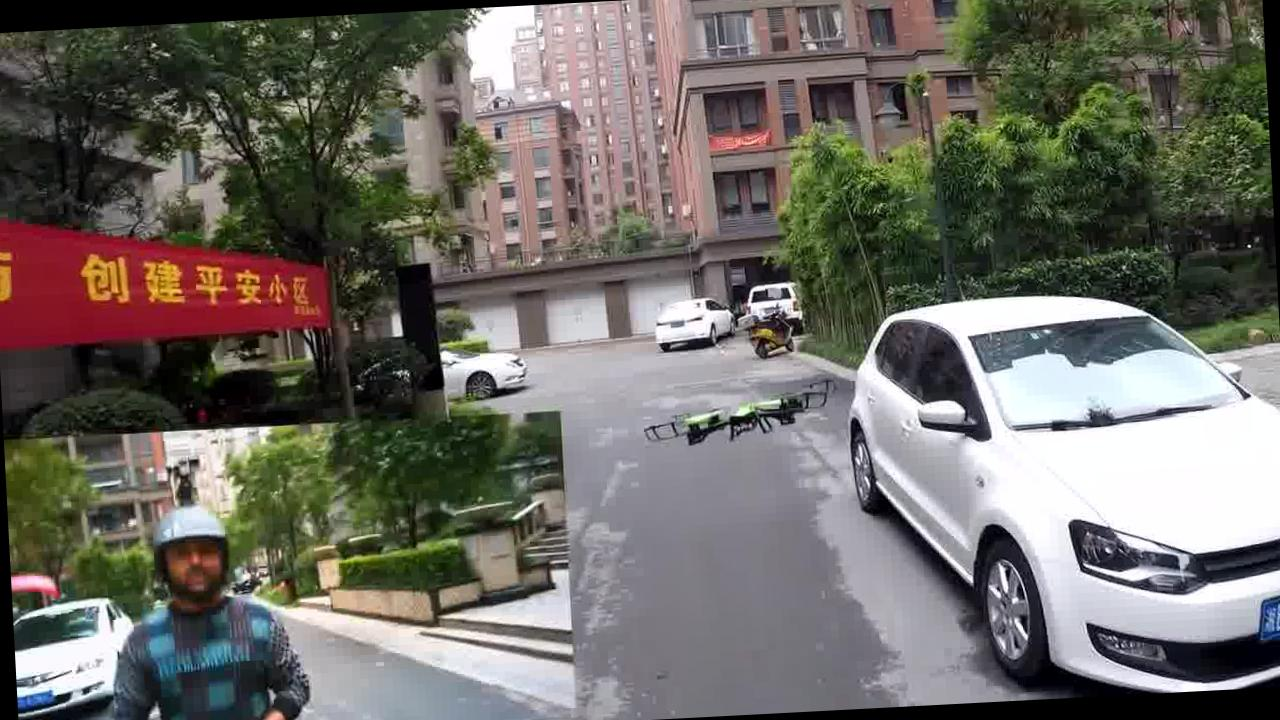drone: (642, 358, 836, 454)
